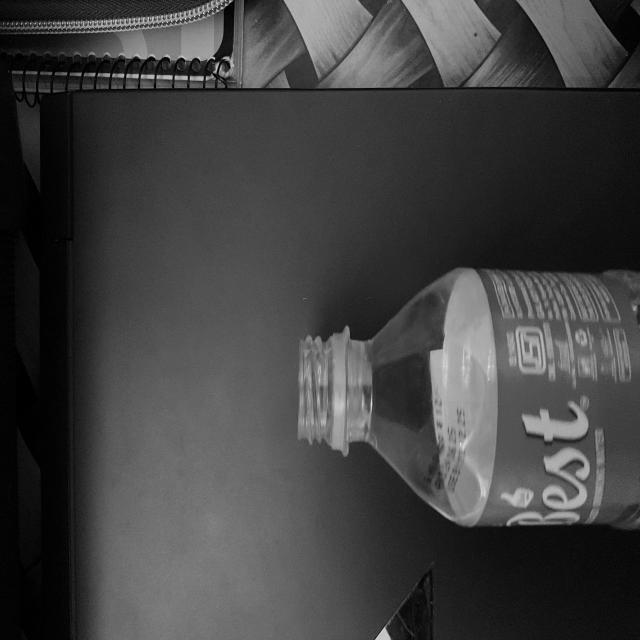open-cap: (296, 329, 346, 452)
